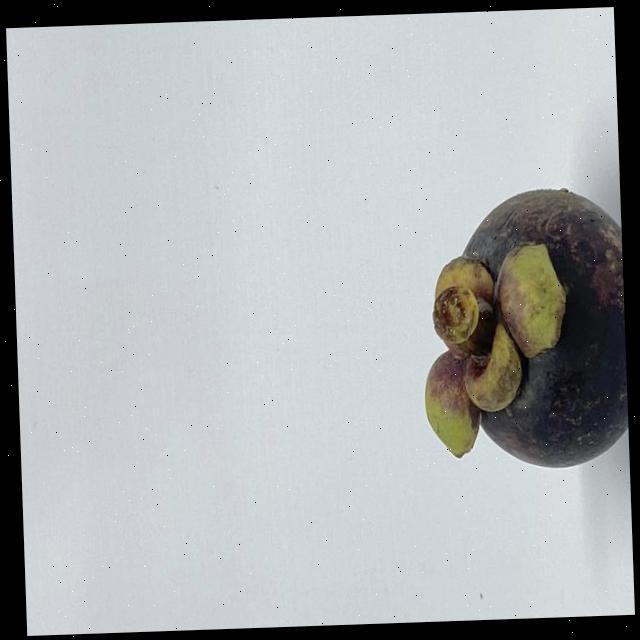mangosteen: (376, 177, 630, 497)
